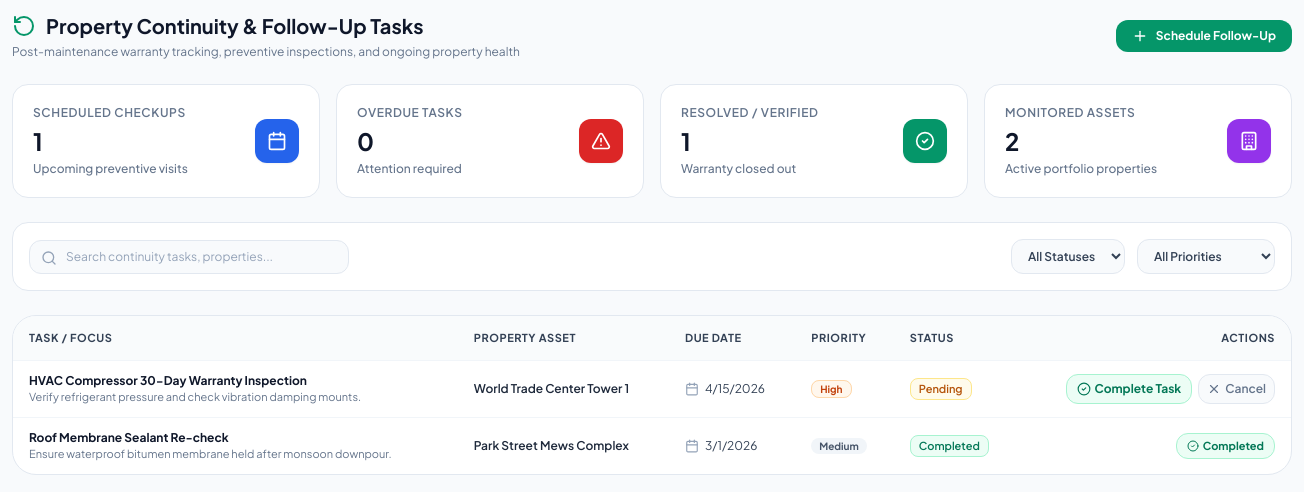
FollowUpContinuityPage › filters tasks by search input
Expected: the text "HVAC Compressor 30-Day Warranty Inspection" is shown, top-left (29, 373), bottom-right (307, 388)
Type "Bitumen" into the field with placeholder "Search continuity tasks, properties..." at (189, 256), box top-left (29, 240), bottom-right (349, 274)
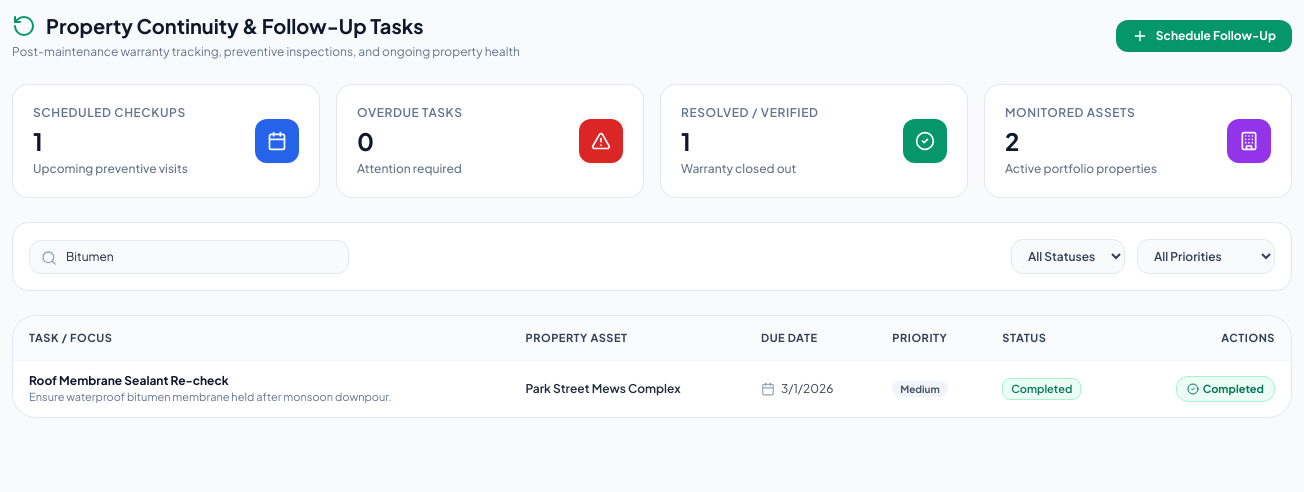
Expected: the text "Roof Membrane Sealant Re-check" is shown, top-left (29, 373), bottom-right (229, 388)
Result: the text "HVAC Compressor 30-Day Warranty Inspection" is gone
